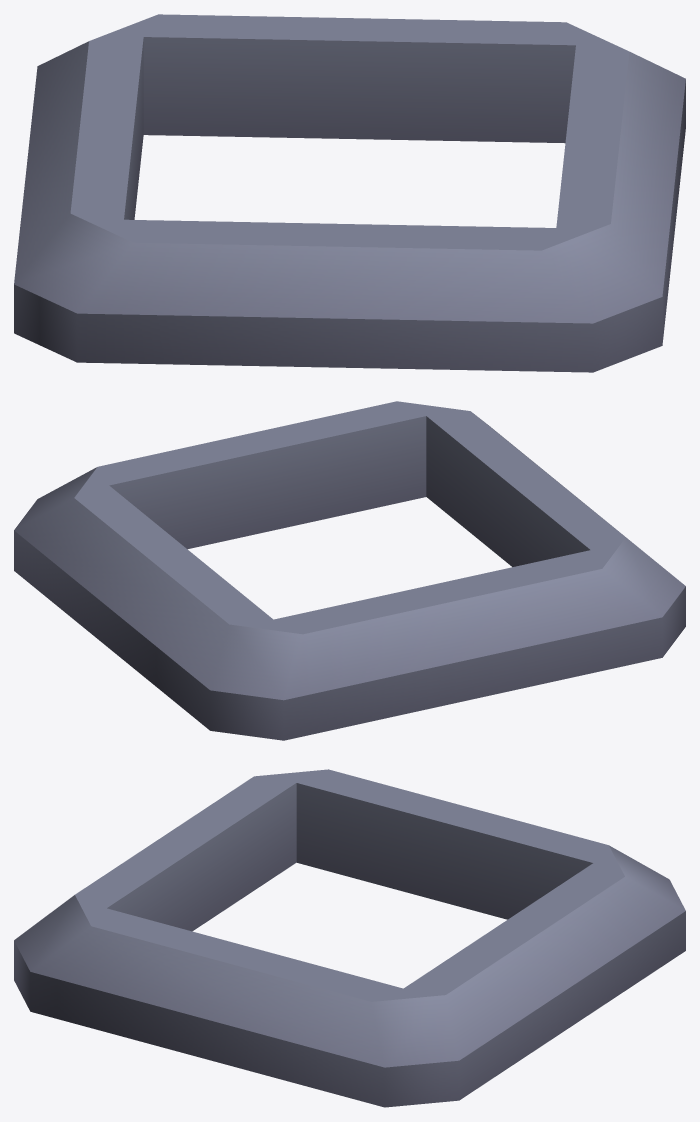
The model's file is n5_n5_button-square_lev5.glb.
3 renders of one model, top to bottom at view 1: azimuth 30°, elevation 25°; view 2: azimuth 150°, elevation 25°; view 3: azimuth 270°, elevation 25°, orthographic. The views are drawn at different scales.
Parts seen in each view (by area): view 1: n5_n5_button-square_lev5; view 2: n5_n5_button-square_lev5; view 3: n5_n5_button-square_lev5.
Part boxes in pixels (x1,y1,x2,y2): n5_n5_button-square_lev5: [14, 14, 685, 372]; n5_n5_button-square_lev5: [14, 401, 685, 740]; n5_n5_button-square_lev5: [14, 769, 685, 1107].
Size of the model in its own units: 1.94 by 0.2541 by 1.94.
Materials: 1 (1 with a texture image).
